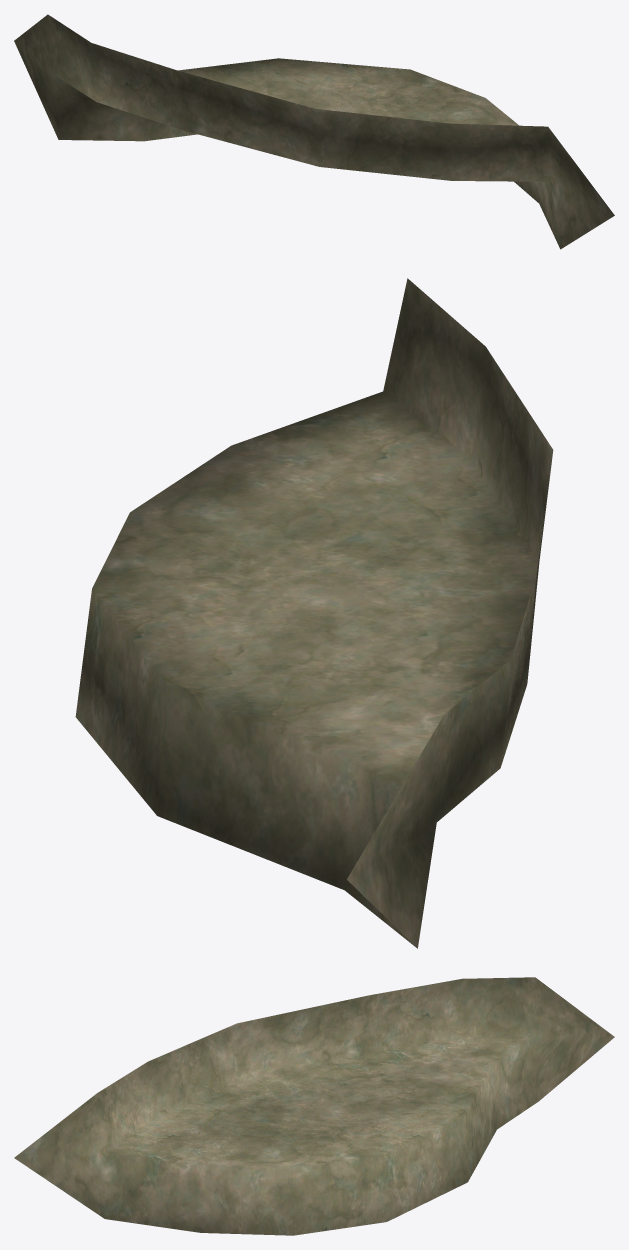
File: OVERHILL_A_01_OBJECT214.fbx
The picture shows the model from 3 angles, top to bottom: view 1: azimuth 30°, elevation 25°; view 2: azimuth 150°, elevation 25°; view 3: azimuth 270°, elevation 25°; orthographic projection. The views are drawn at different scales.
Parts seen in each view (by area): view 1: OVERHILL_A_01_OBJECT214; view 2: OVERHILL_A_01_OBJECT214; view 3: OVERHILL_A_01_OBJECT214.
Boxes of the visible parts, x1,y1,x2,y2 form: OVERHILL_A_01_OBJECT214: (14, 14, 614, 249); OVERHILL_A_01_OBJECT214: (75, 278, 553, 948); OVERHILL_A_01_OBJECT214: (14, 977, 614, 1235).
Bounding box in the file's own units: 27009 × 10688 × 49066.
1 material, 1 textured.
